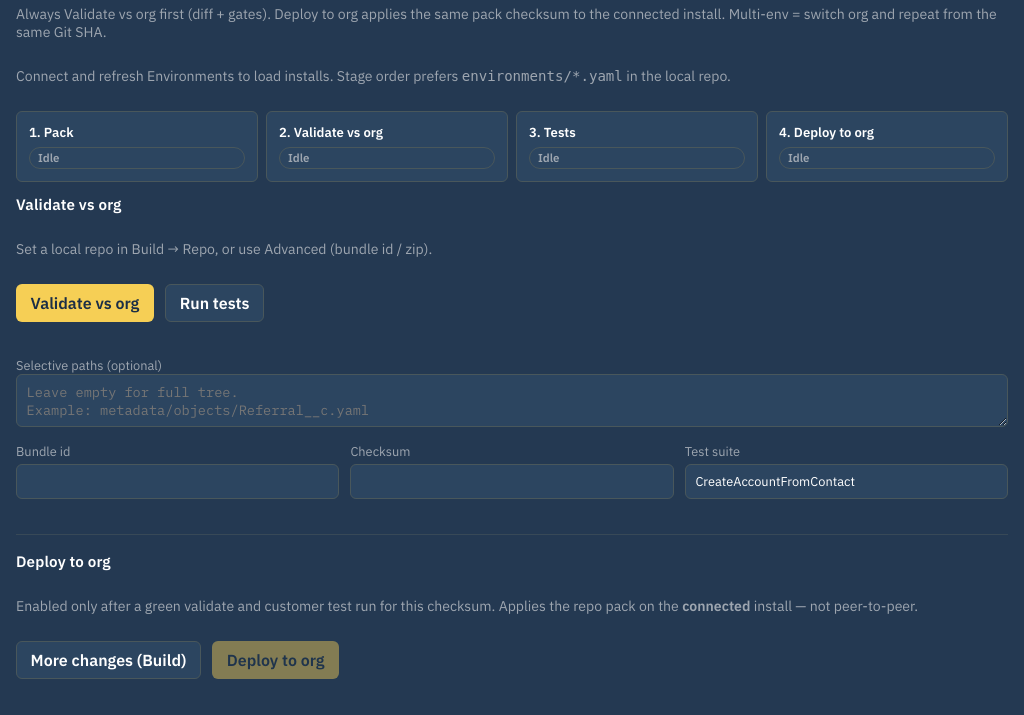
Test case: DeployPanel › surfaces API errors on validate vs org
The width and height of the screenshot is (1024, 715).
Type "bun_x" into the field with test id "bundle-id" at (178, 481), box [16, 464, 339, 498]
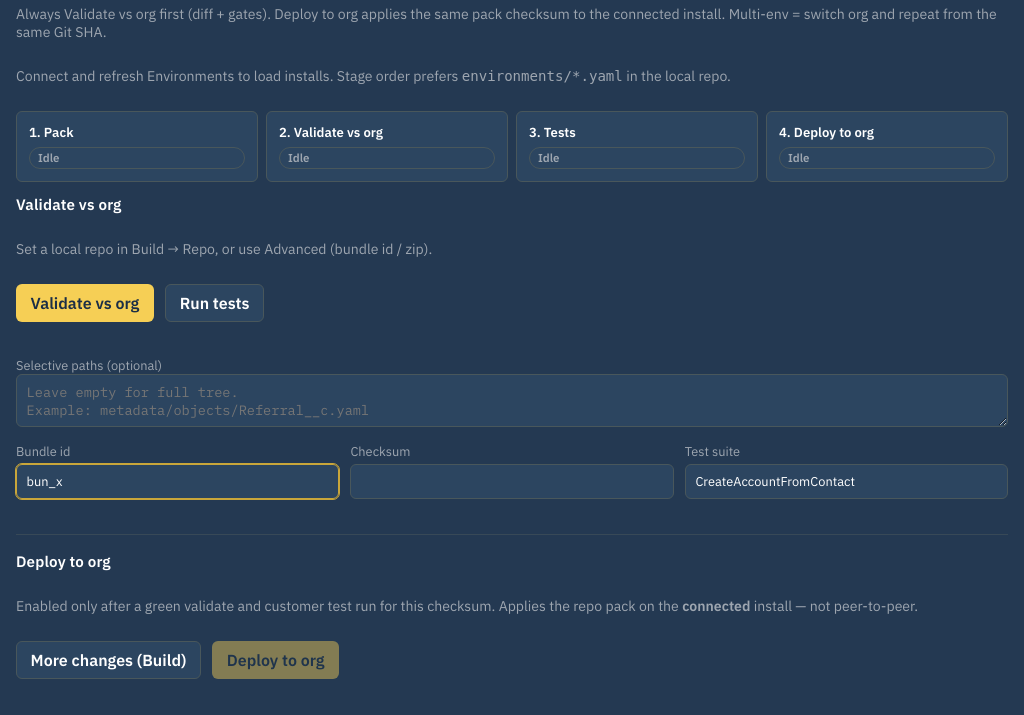
Click the button with test id "validate-vs-org" at (85, 303), box [16, 284, 154, 322]
(page scrolled)
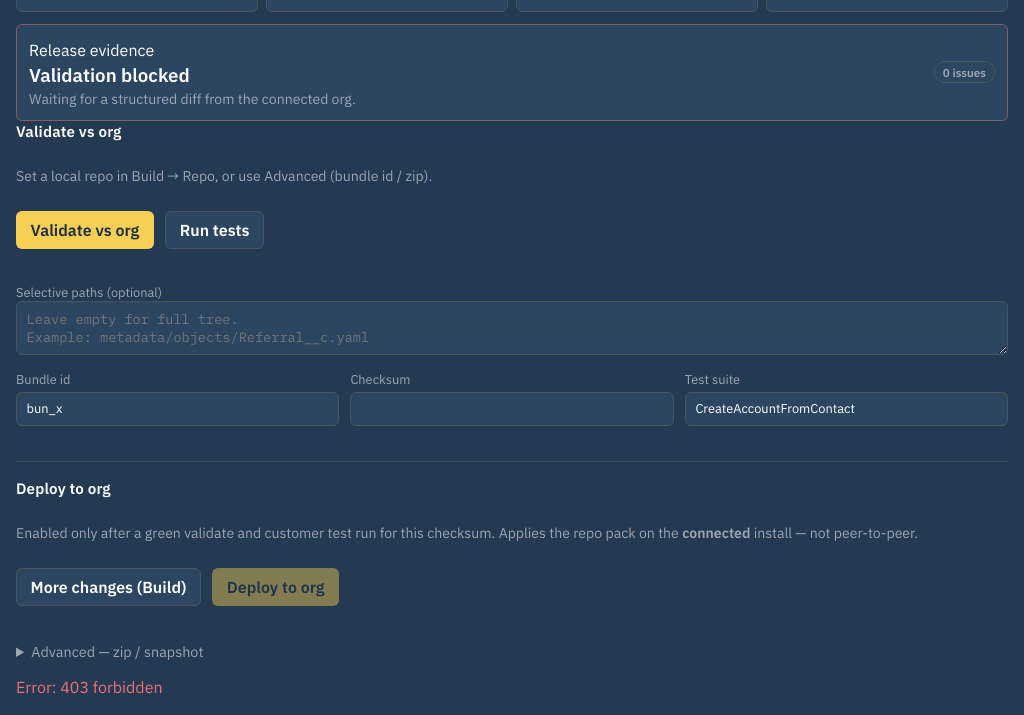
Check: the text "Error: 403 forbidden" is shown, box [16, 677, 162, 697]
